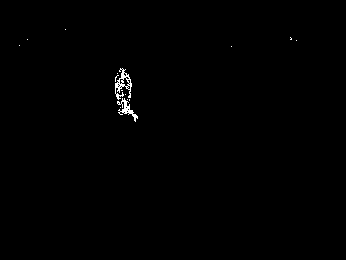person: (113, 68, 139, 121)
